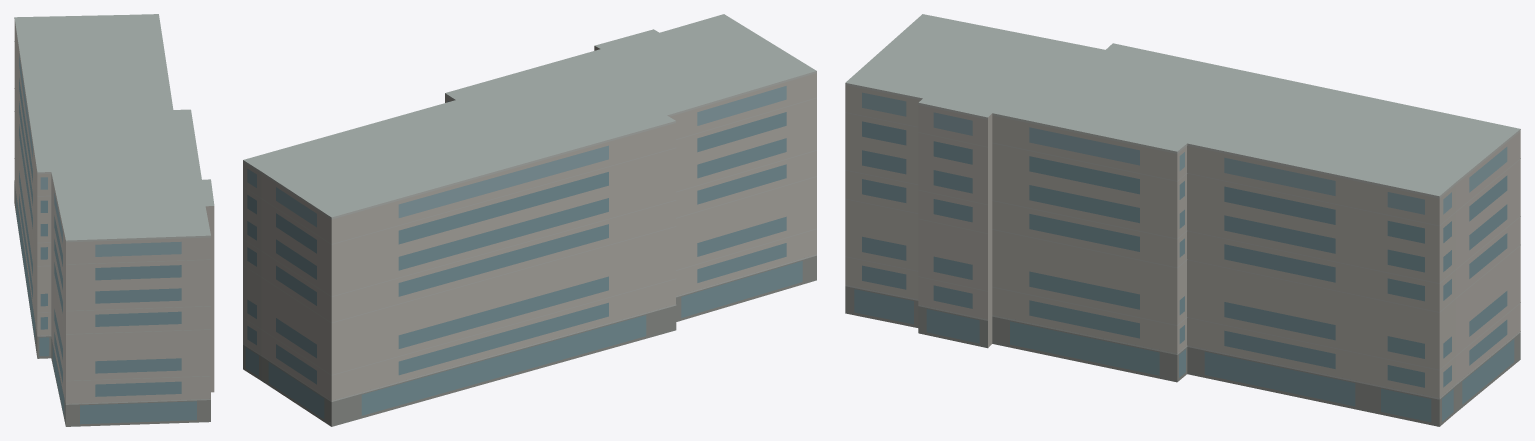
File: survey-upis-32732963.glb
3 views of the same model, side by side, from view 1: azimuth 30°, elevation 25°; view 2: azimuth 150°, elevation 25°; view 3: azimuth 270°, elevation 25° (orthographic). The views are drawn at different scales.
Parts seen in each view (by area): view 1: survey-upis-32732963.tmp; view 2: survey-upis-32732963.tmp; view 3: survey-upis-32732963.tmp.
Part boxes in pixels (left/top/right/bottom): survey-upis-32732963.tmp: left=14, top=14, right=214, bottom=426; survey-upis-32732963.tmp: left=243, top=14, right=816, bottom=426; survey-upis-32732963.tmp: left=845, top=14, right=1520, bottom=426.
Bounding box in the file's own units: 41.37 × 24.4 × 64.78.
